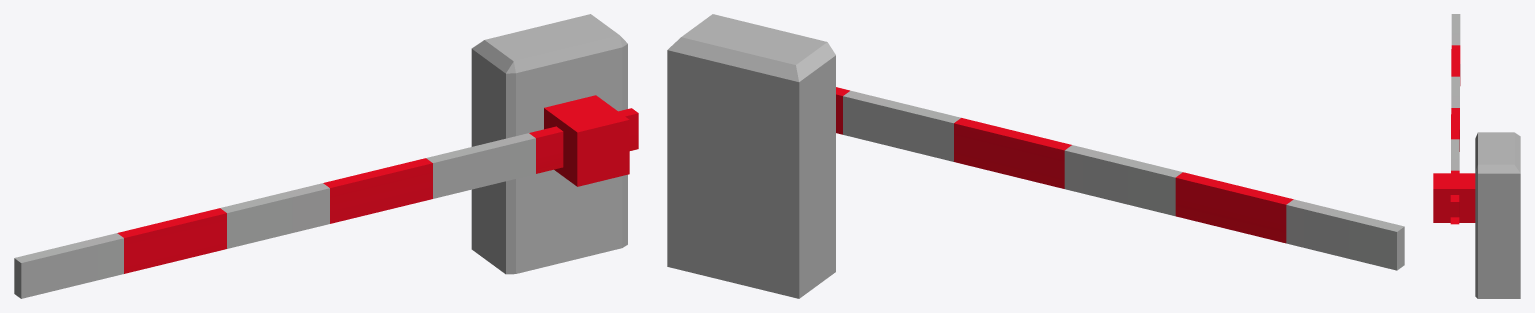
The model's file is SM_City_Barrier.fbx.
The picture shows the model from 3 angles, left to right: view 1: azimuth 30°, elevation 25°; view 2: azimuth 150°, elevation 25°; view 3: azimuth 270°, elevation 25°; orthographic projection. The views are drawn at different scales.
Parts seen in each view (by area): view 1: SM_City_Barrier; view 2: SM_City_Barrier; view 3: SM_City_Barrier.
Boxes of the visible parts, x1,y1,x2,y2 form: SM_City_Barrier: (14, 14, 638, 298); SM_City_Barrier: (667, 14, 1404, 298); SM_City_Barrier: (1433, 14, 1520, 298).
Bounding box in the file's own units: 384 × 123 × 74.2.
